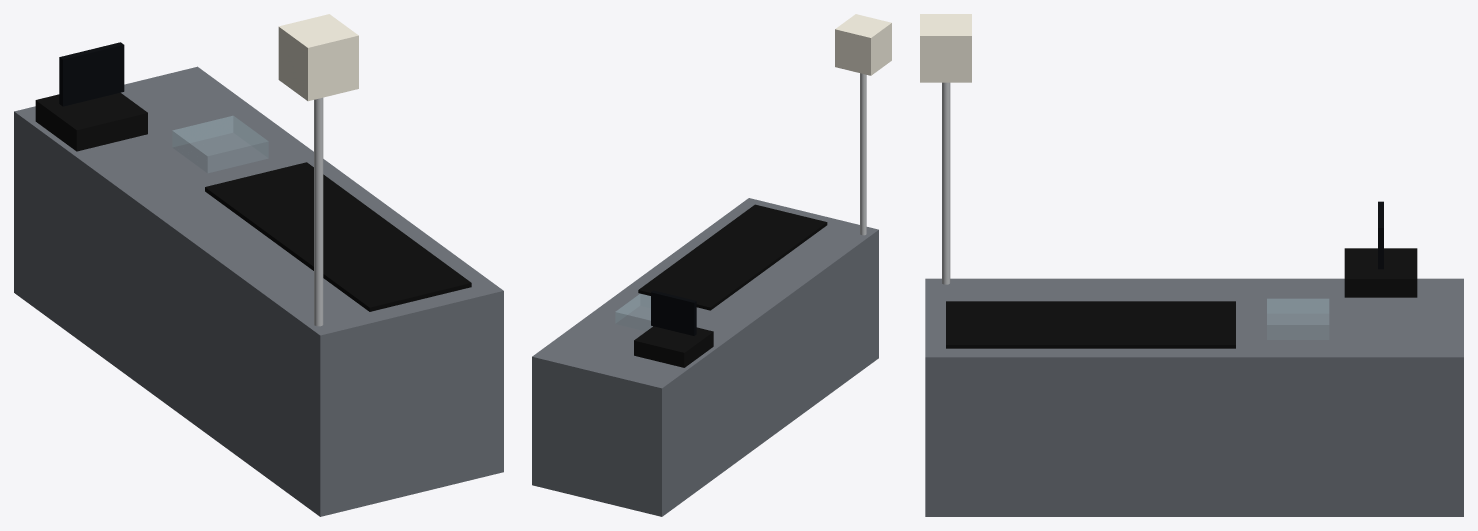
Rendered from retail.shop.checkout.glb.
3 renders of one model, left to right at view 1: azimuth 30°, elevation 25°; view 2: azimuth 150°, elevation 25°; view 3: azimuth 270°, elevation 25°, orthographic. The views are drawn at different scales.
Parts seen in each view (by area): view 1: main__laminate_grey, main__rubber, main__light_emitter, main__plastic_black, main__glass, main__screen, main__aluminium; view 2: main__laminate_grey, main__rubber, main__light_emitter, main__plastic_black, main__screen, main__aluminium, main__glass; view 3: main__laminate_grey, main__rubber, main__light_emitter, main__plastic_black, main__glass, main__aluminium.
Boxes of the visible parts, x1=… form: main__laminate_grey: x1=14, y1=66, x2=503, y2=516; main__rubber: x1=205, y1=162, x2=471, y2=311; main__light_emitter: x1=278, y1=14, x2=358, y2=101; main__plastic_black: x1=35, y1=92, x2=147, y2=151; main__glass: x1=172, y1=116, x2=268, y2=172; main__screen: x1=59, y1=42, x2=124, y2=106; main__aluminium: x1=314, y1=97, x2=323, y2=326; main__laminate_grey: x1=532, y1=198, x2=878, y2=516; main__rubber: x1=638, y1=204, x2=827, y2=310; main__light_emitter: x1=835, y1=14, x2=891, y2=75; main__plastic_black: x1=634, y1=326, x2=713, y2=367; main__screen: x1=651, y1=290, x2=696, y2=335; main__aluminium: x1=860, y1=73, x2=866, y2=235; main__glass: x1=615, y1=294, x2=652, y2=330; main__laminate_grey: x1=925, y1=278, x2=1463, y2=516; main__rubber: x1=946, y1=301, x2=1235, y2=348; main__light_emitter: x1=920, y1=14, x2=971, y2=82; main__plastic_black: x1=1344, y1=248, x2=1417, y2=297; main__glass: x1=1267, y1=299, x2=1328, y2=339; main__aluminium: x1=942, y1=82, x2=950, y2=284.
Size of the model in its own units: 0.975 by 2.22 by 2.62.
